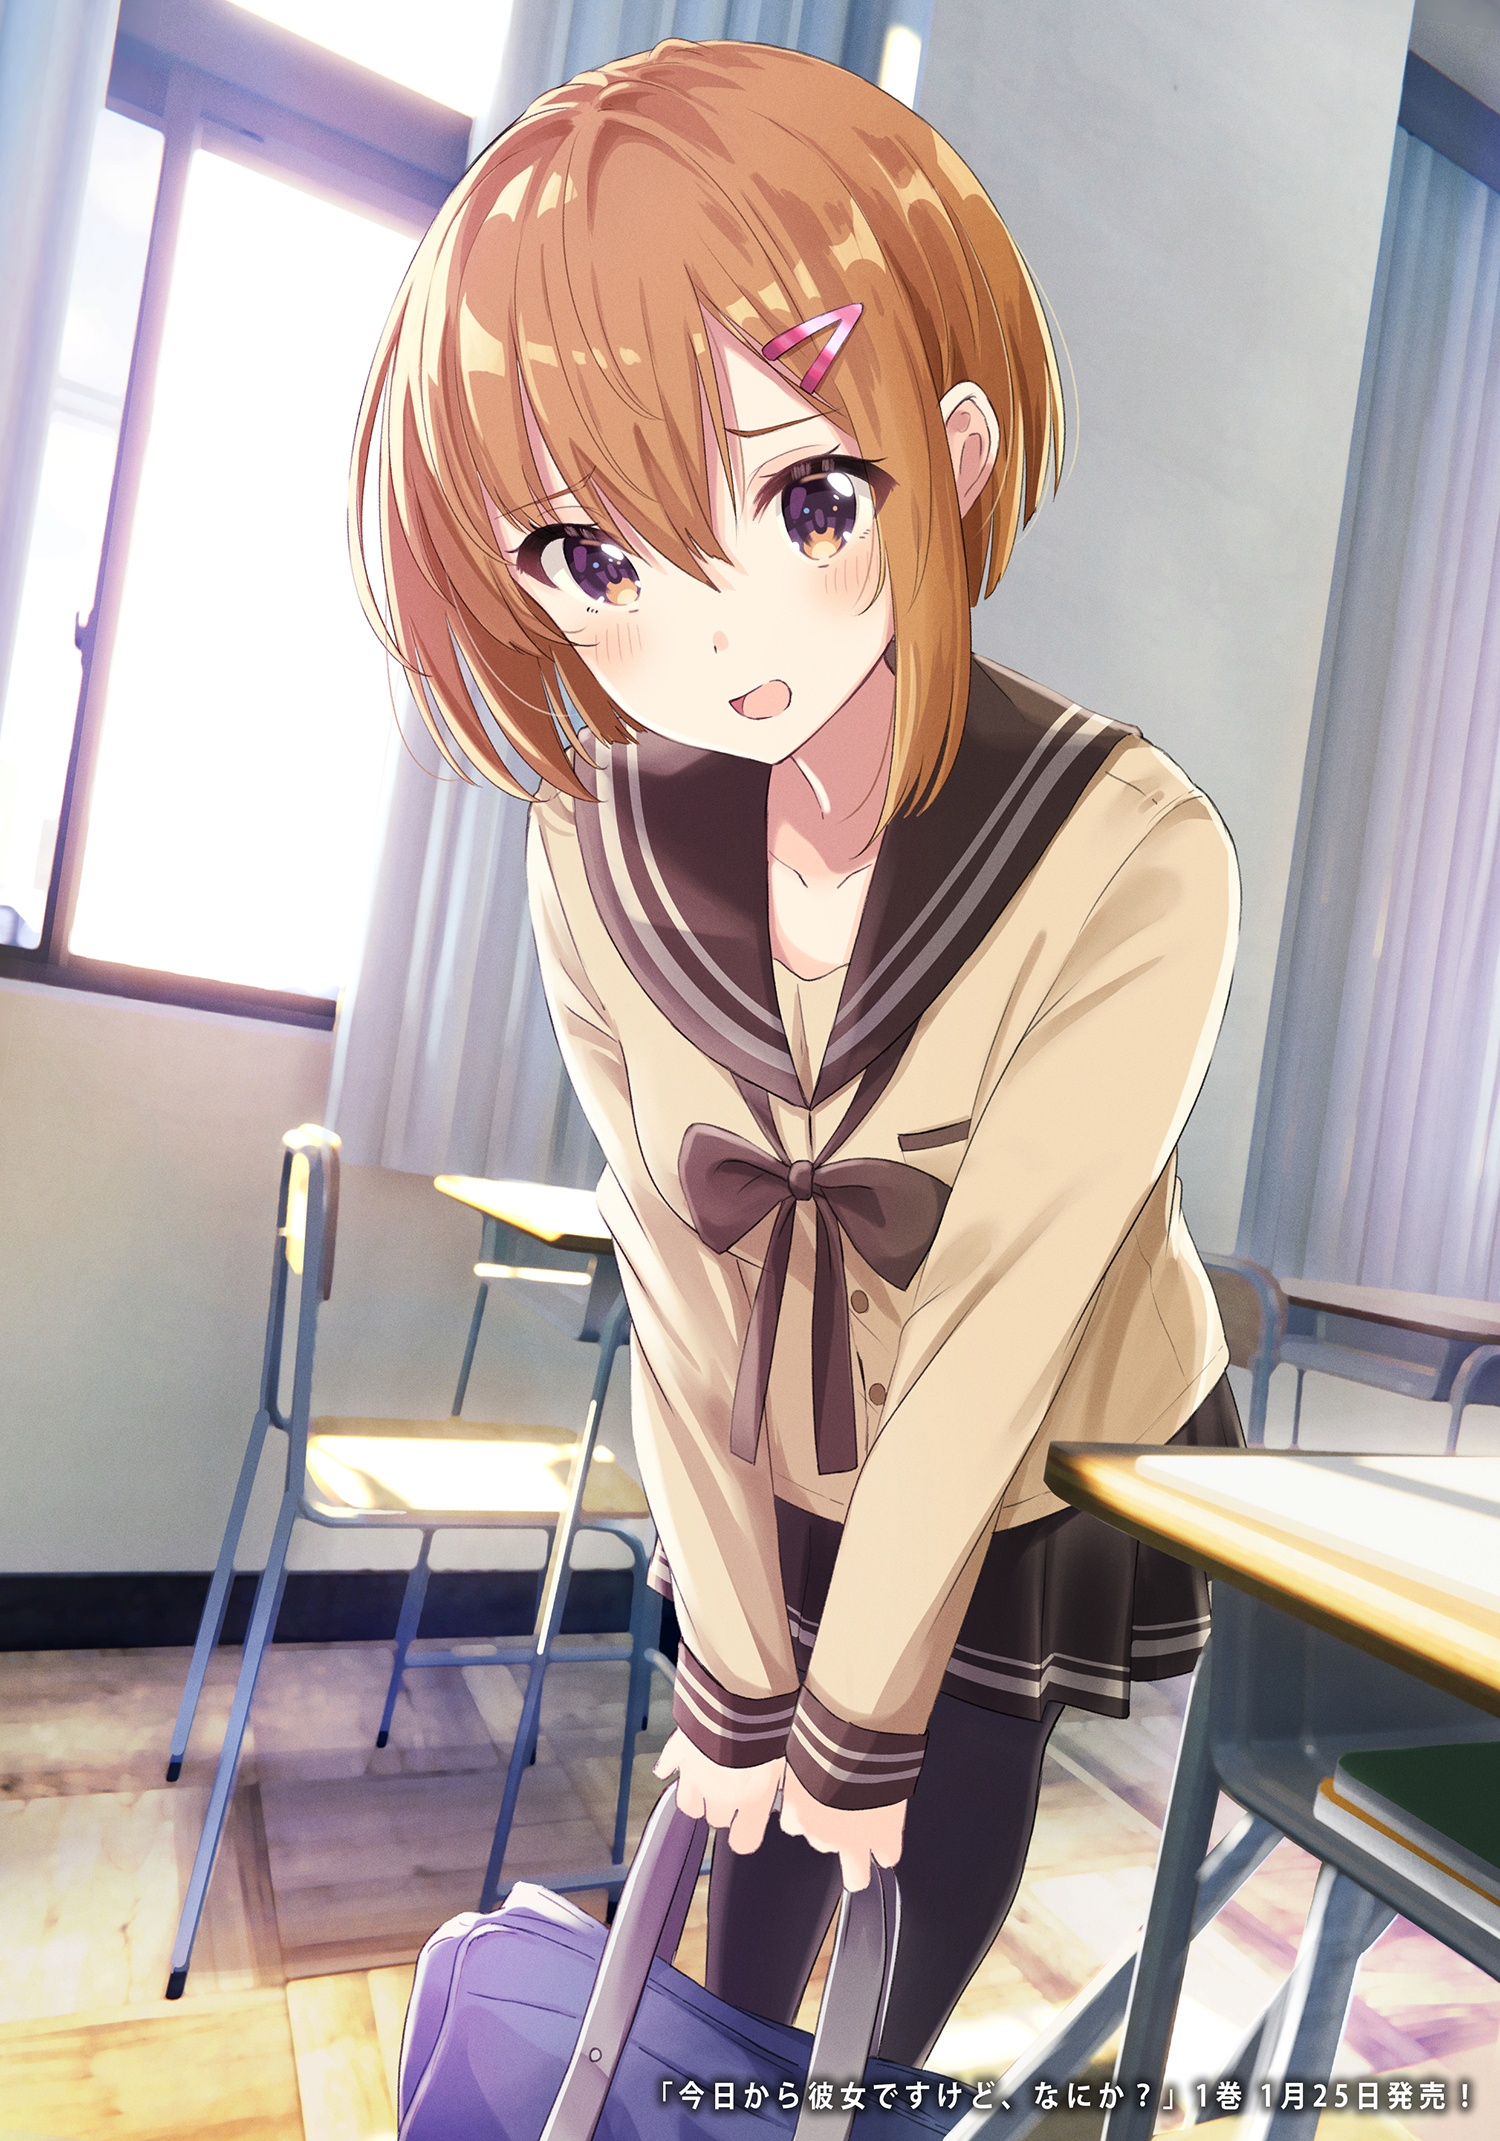纸片人正脸: (359, 22, 1064, 791)
